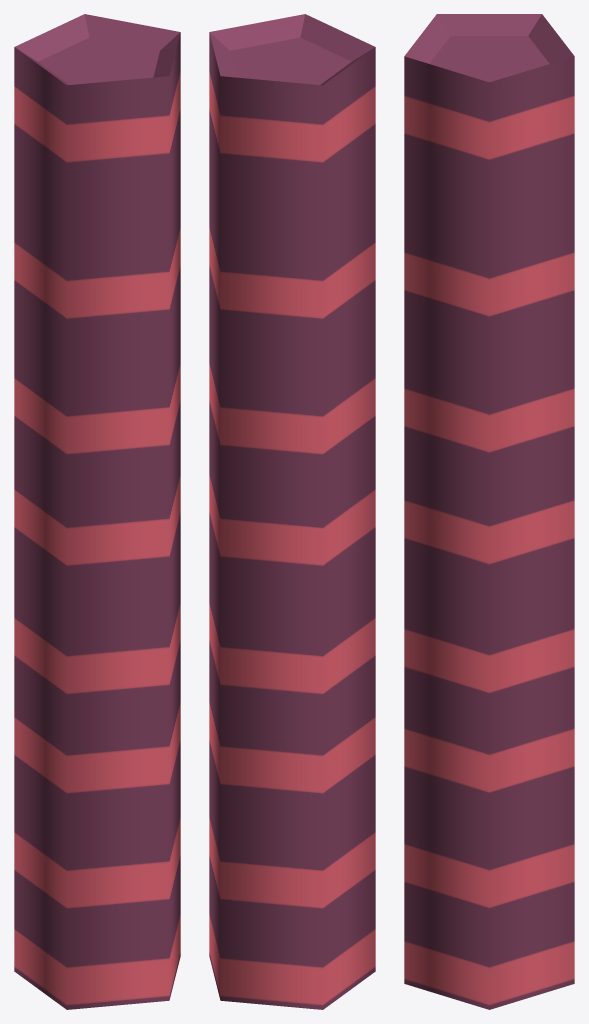
The model's file is mode_candle.FBX.
3 views of the same model, side by side, from view 1: azimuth 30°, elevation 25°; view 2: azimuth 150°, elevation 25°; view 3: azimuth 270°, elevation 25° (orthographic).
Parts seen in each view (by area): view 1: Cylinder002; view 2: Cylinder002; view 3: Cylinder002.
Boxes of the visible parts, bbox=[...] form: Cylinder002: bbox=[14, 14, 180, 1009]; Cylinder002: bbox=[209, 14, 375, 1009]; Cylinder002: bbox=[404, 14, 574, 1009].
Bounding box in the file's own units: 1.27 × 8 × 1.33.
1 material, 1 textured.
